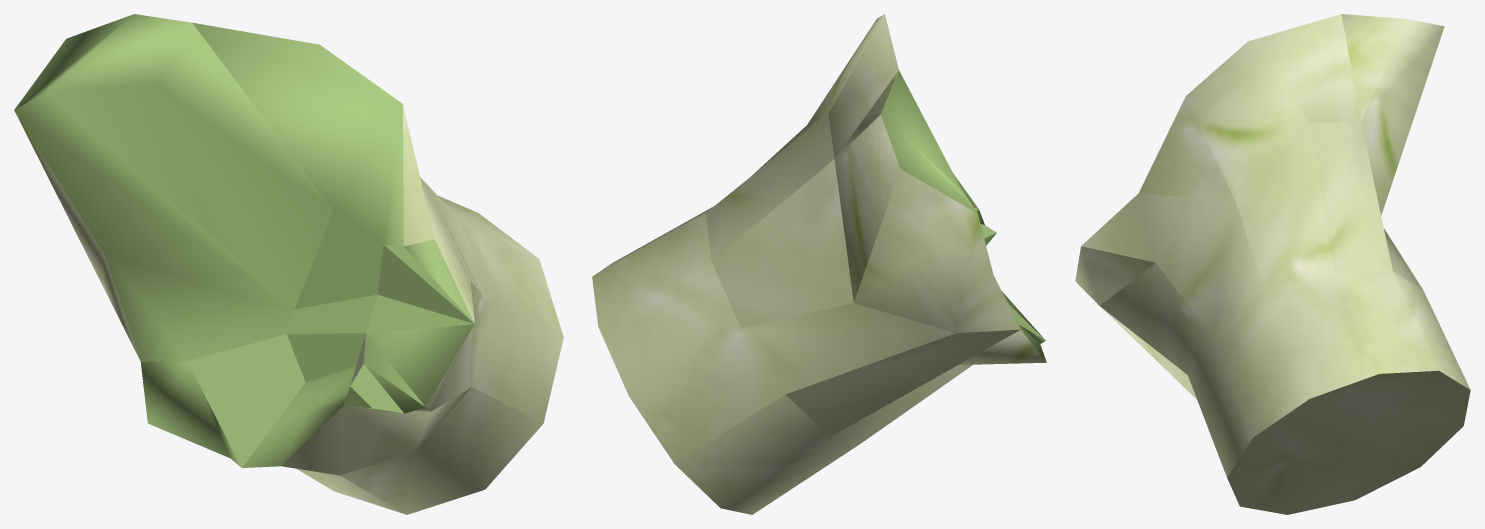
File: Brocolli-3.fbx
3 renders of one model, left to right at view 1: azimuth 30°, elevation 25°; view 2: azimuth 150°, elevation 25°; view 3: azimuth 270°, elevation 25°, orthographic. The views are drawn at different scales.
Visible parts, largest first — view 1: Brocolli.002; view 2: Brocolli.002; view 3: Brocolli.002.
Boxes of the visible parts, x1,y1,x2,y2 form: Brocolli.002: (14,14,563,514); Brocolli.002: (592,14,1046,514); Brocolli.002: (1075,14,1470,514).
Bounding box in the file's own units: 350 × 374 × 313.
